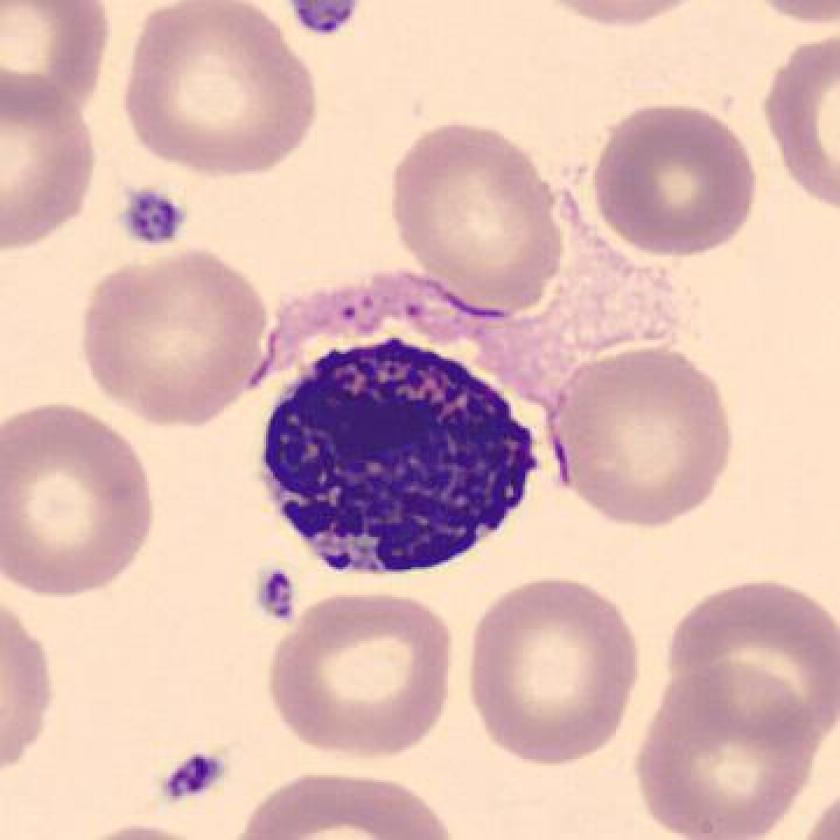basophil: (255, 334, 547, 591)
